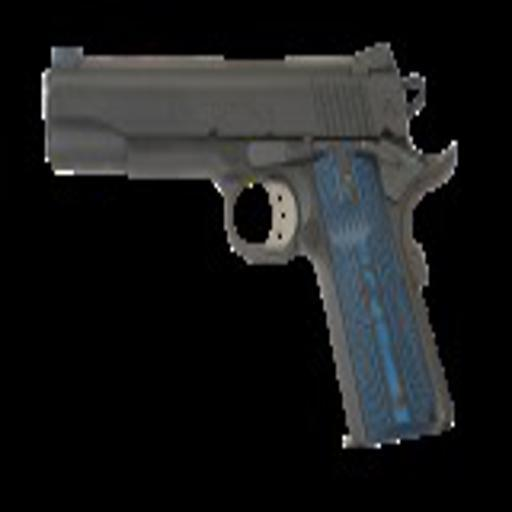Handgun: (37, 37, 459, 451)
